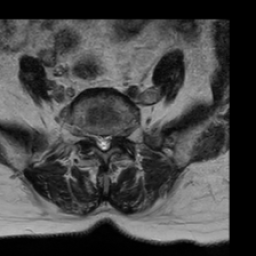CCS_severe_stenosis: (101, 130, 107, 156)
LFS_stenosis: (113, 123, 121, 145)
LLS_normal: (107, 129, 113, 151)
RFS_stenosis: (87, 126, 94, 146)
RLS_normal: (94, 129, 101, 151)
